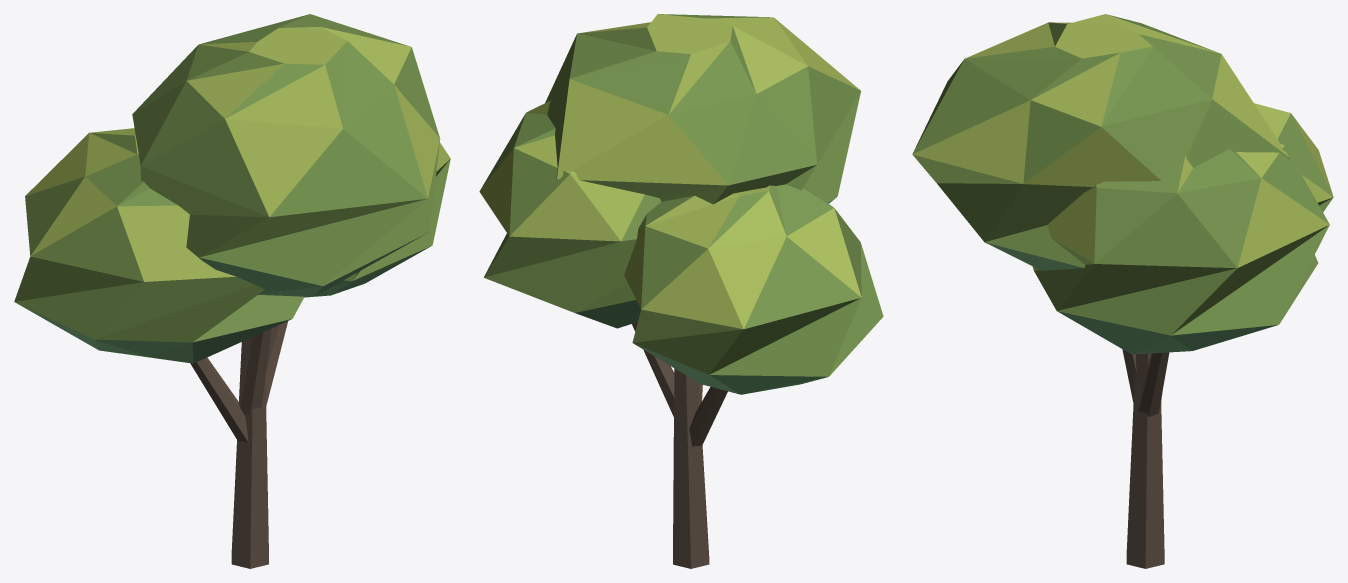
Rendered from TREE_01.glb.
3 views of the same model, side by side, from view 1: azimuth 30°, elevation 25°; view 2: azimuth 150°, elevation 25°; view 3: azimuth 270°, elevation 25° (orthographic). The views are drawn at different scales.
Visible parts, largest first — view 1: CIVRUM_GAME_TREE_01; view 2: CIVRUM_GAME_TREE_01; view 3: CIVRUM_GAME_TREE_01.
Boxes of the visible parts, x1,y1,x2,y2 form: CIVRUM_GAME_TREE_01: [14, 14, 450, 568]; CIVRUM_GAME_TREE_01: [479, 14, 883, 568]; CIVRUM_GAME_TREE_01: [912, 14, 1333, 568].
Bounding box in the file's own units: 4.8 × 6.46 × 4.6.
